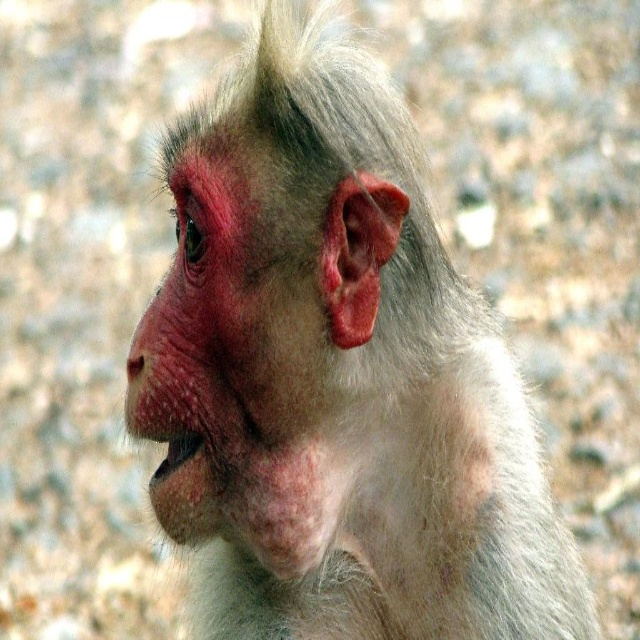Monkey: (112, 0, 612, 639)
